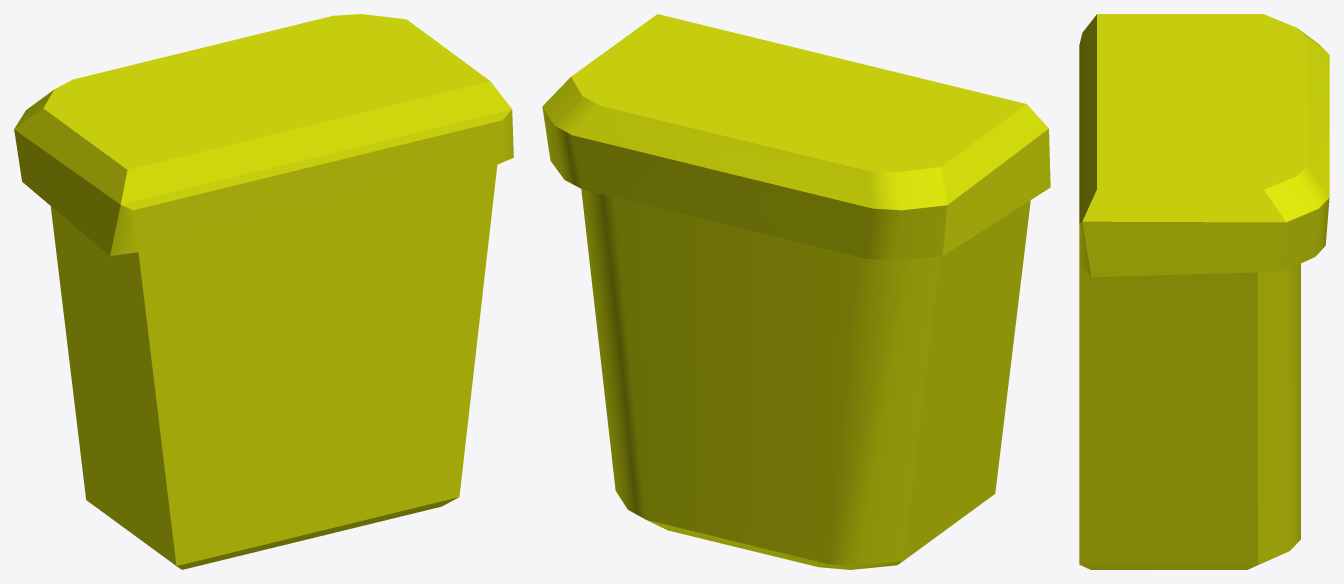
The model's file is Mounted_Hazard_Trashcan.fbx.
The picture shows the model from 3 angles, left to right: view 1: azimuth 30°, elevation 25°; view 2: azimuth 150°, elevation 25°; view 3: azimuth 270°, elevation 25°; orthographic projection. The views are drawn at different scales.
Visible parts, largest first — view 1: Mounted_TrashCan; view 2: Mounted_TrashCan; view 3: Mounted_TrashCan.
Part boxes in pixels (x1,y1,x2,y2): Mounted_TrashCan: [14, 14, 513, 569]; Mounted_TrashCan: [542, 14, 1050, 569]; Mounted_TrashCan: [1079, 14, 1329, 569].
Bounding box in the file's own units: 0.5058 × 0.4912 × 0.2746.
